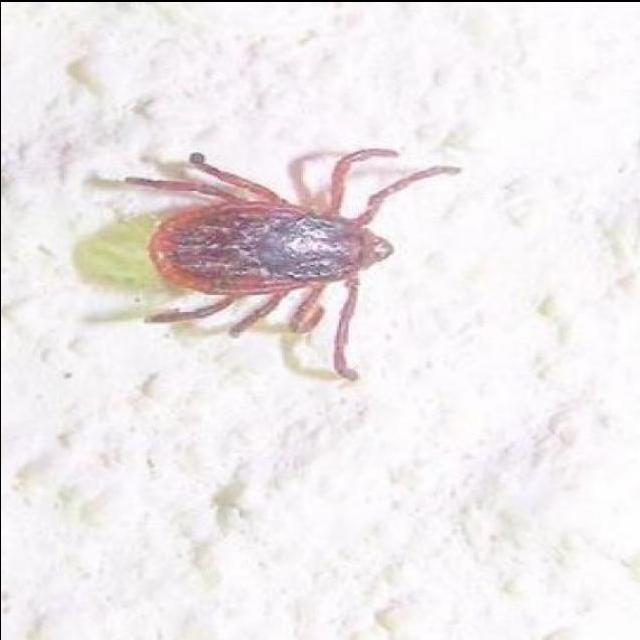Rhipicephalus Sanguineus-F: (125, 147, 461, 379)
